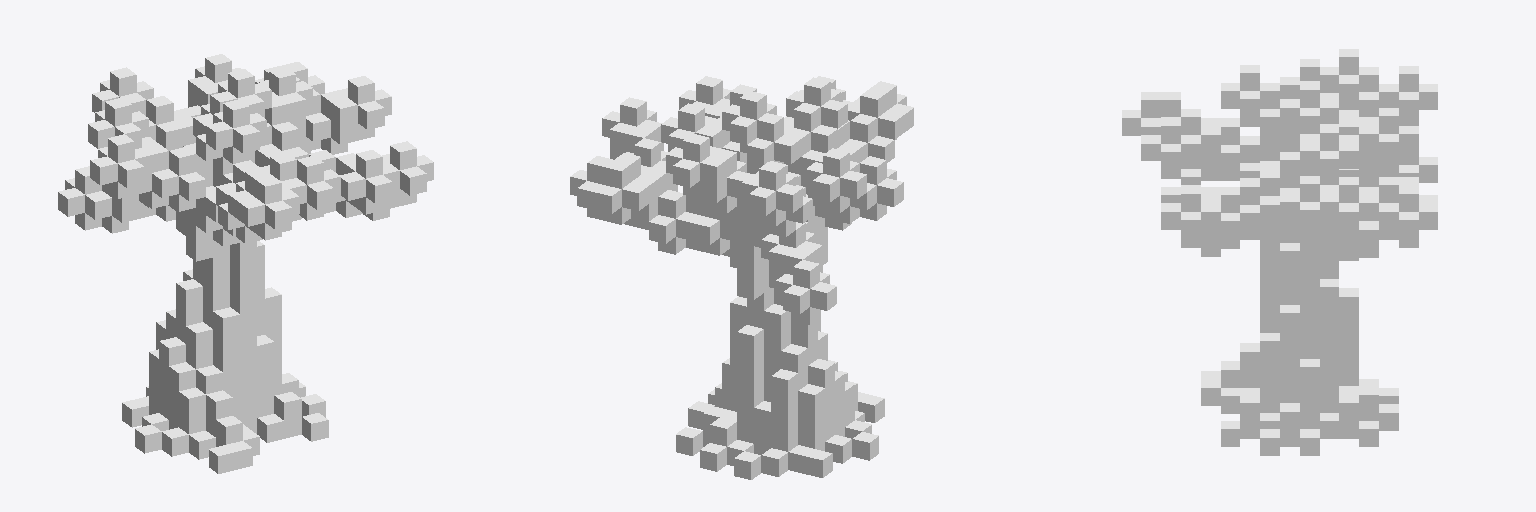
File: Arbre_1.obj
3 views of the same model, side by side, from view 1: azimuth 30°, elevation 25°; view 2: azimuth 150°, elevation 25°; view 3: azimuth 270°, elevation 25° (orthographic).
Parts seen in each view (by area): view 1: Arbre_1; view 2: Arbre_1; view 3: Arbre_1.
Part boxes in pixels (left/top/right/bottom): Arbre_1: left=58, top=54, right=433, bottom=473; Arbre_1: left=570, top=76, right=913, bottom=479; Arbre_1: left=1122, top=49, right=1437, bottom=455.
Bounding box in the file's own units: 17 × 19 × 16.